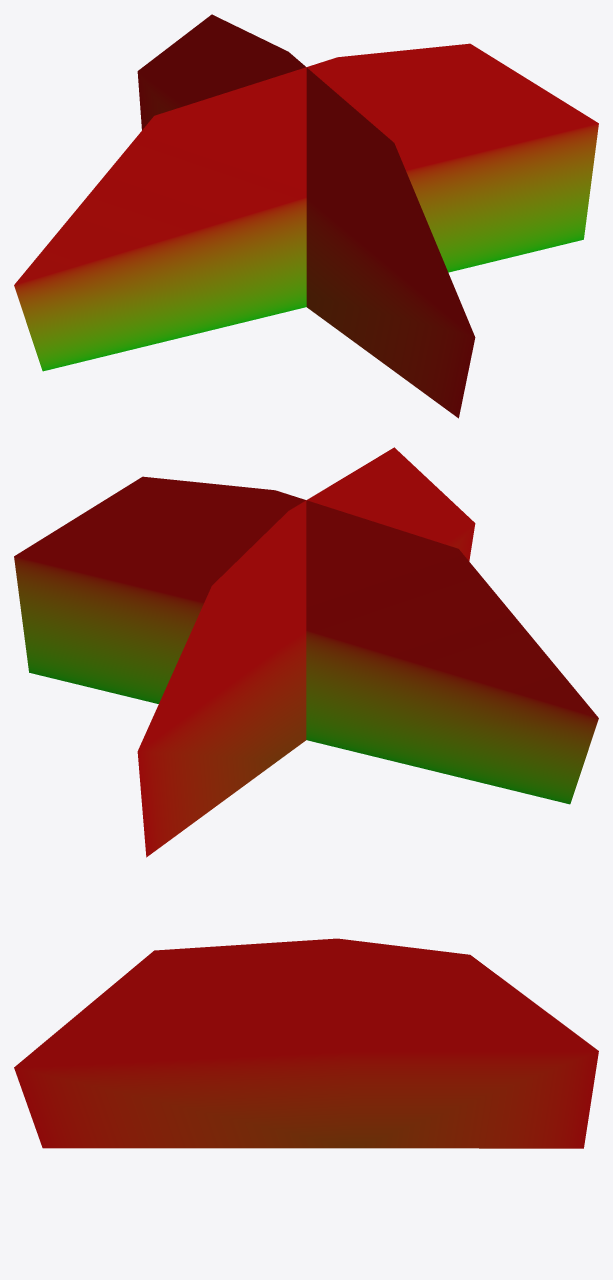
Rendered from Kikuyu Grass_LOD6_Var6_wiljearqx.fbx.
3 renders of one model, top to bottom at view 1: azimuth 30°, elevation 25°; view 2: azimuth 150°, elevation 25°; view 3: azimuth 270°, elevation 25°, orthographic. The views are drawn at different scales.
Visible parts, largest first — view 1: _dpj8_Var6_LOD6; view 2: _dpj8_Var6_LOD6; view 3: _dpj8_Var6_LOD6.
Part boxes in pixels (left/top/right/bottom): _dpj8_Var6_LOD6: left=14, top=14, right=598, bottom=418; _dpj8_Var6_LOD6: left=14, top=447, right=598, bottom=857; _dpj8_Var6_LOD6: left=14, top=938, right=598, bottom=1148.
Bounding box in the file's own units: 84.24 × 33.38 × 84.24.
